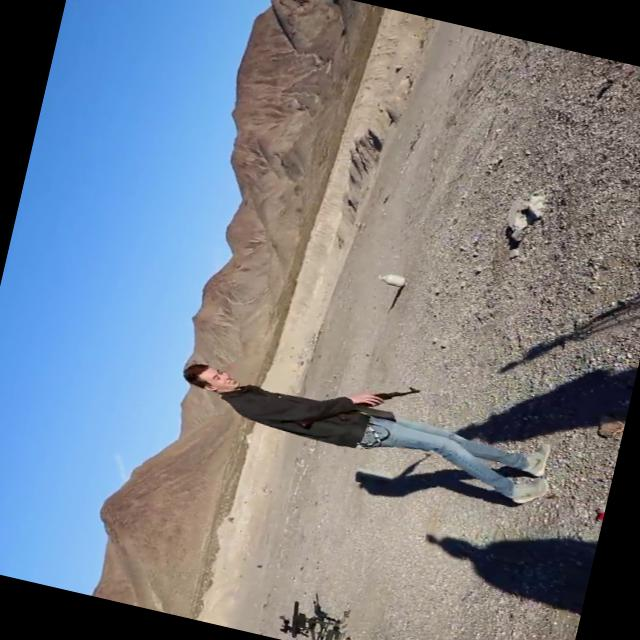long weapon: (290, 354, 424, 454), (264, 584, 346, 639)
